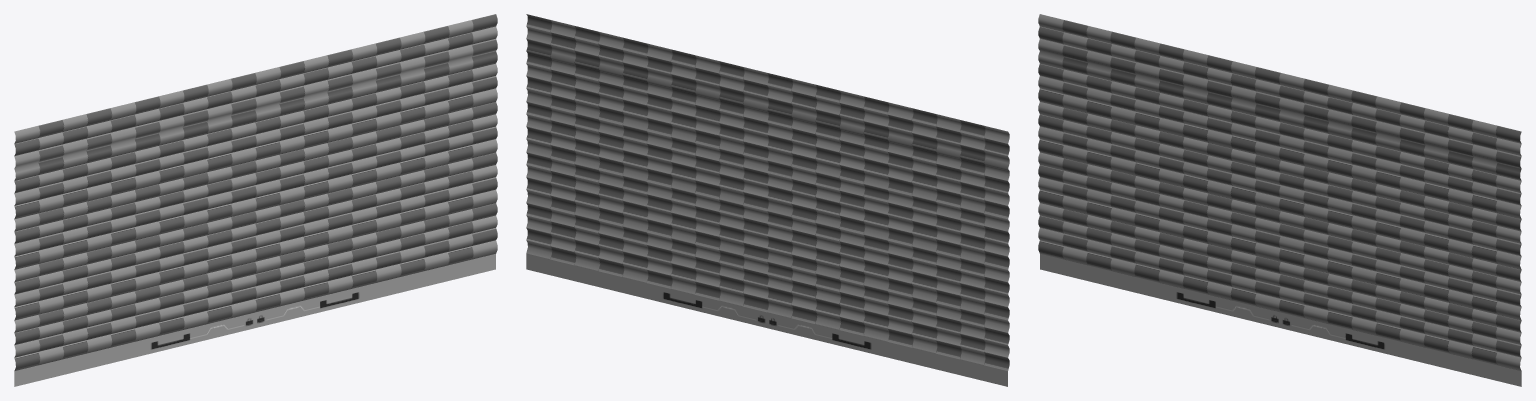
File: SM_Fence1.3.FBX
3 views of the same model, side by side, from view 1: azimuth 30°, elevation 25°; view 2: azimuth 150°, elevation 25°; view 3: azimuth 330°, elevation 25° (orthographic).
Parts seen in each view (by area): view 1: Fence3; view 2: Fence3; view 3: Fence3.
Boxes of the visible parts, x1,y1,x2,y2 form: Fence3: [14, 14, 497, 386]; Fence3: [526, 14, 1009, 386]; Fence3: [1038, 14, 1521, 386].
Size of the model in its own units: 6 by 3.04 by 0.0344.
